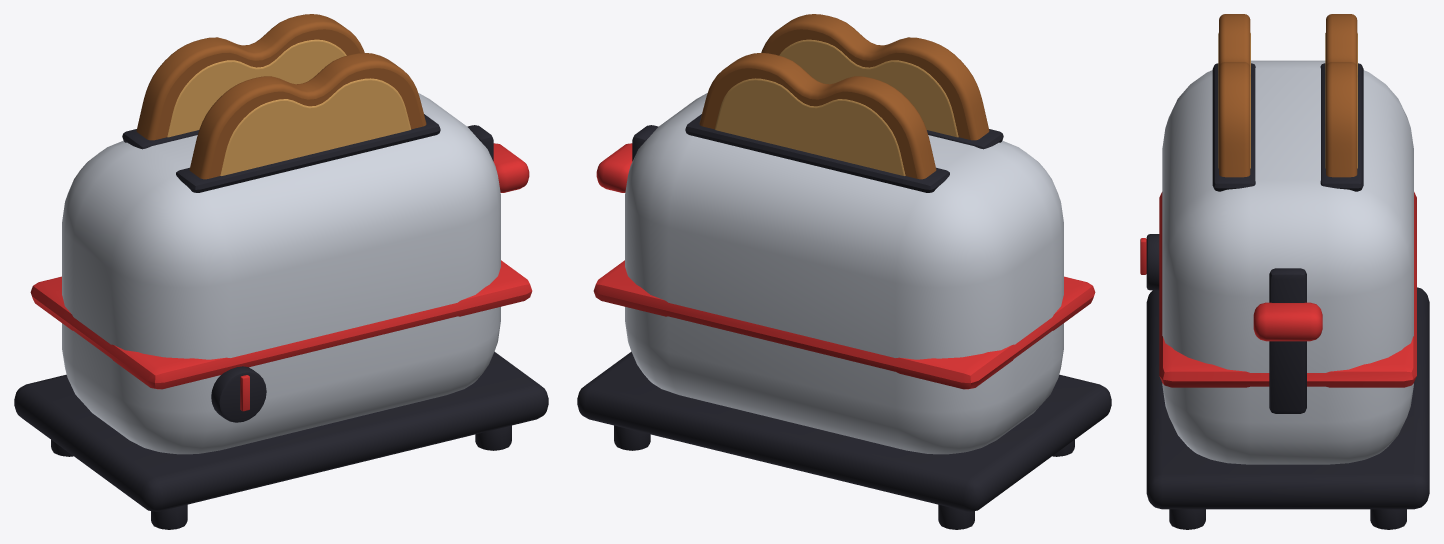
The model's file is Toaster.fbx.
3 views of the same model, side by side, from view 1: azimuth 30°, elevation 25°; view 2: azimuth 150°, elevation 25°; view 3: azimuth 270°, elevation 25° (orthographic).
Parts seen in each view (by area): view 1: Chrome, Dark, Crust, Toast, Red; view 2: Chrome, Dark, Crust, Toast, Red; view 3: Chrome, Dark, Crust, Red, Toast.
Boxes of the visible parts, x1,y1,x2,y2 form: Chrome: (62, 93, 500, 454); Dark: (14, 114, 548, 529); Crust: (136, 14, 426, 179); Toast: (167, 39, 411, 175); Red: (30, 143, 532, 411); Chrome: (625, 93, 1063, 454); Dark: (577, 114, 1111, 529); Crust: (699, 14, 989, 179); Toast: (714, 39, 958, 175); Red: (593, 143, 1095, 389); Chrome: (1162, 60, 1413, 464); Dark: (1146, 63, 1429, 529); Crust: (1219, 14, 1357, 177); Red: (1140, 192, 1416, 387); Toast: (1218, 33, 1357, 168).
Size of the model in its own units: 162 by 140 by 92.
